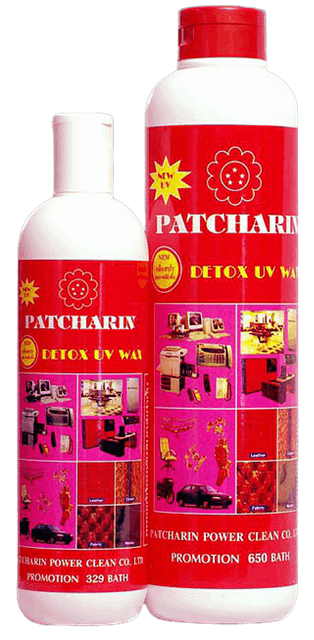Cleaning_solution: (137, 3, 306, 629), (9, 108, 158, 630)
